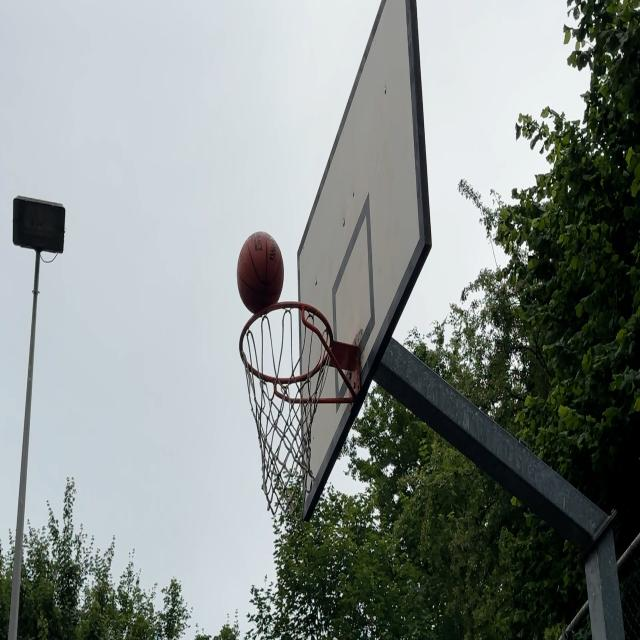rebound_hit: (237, 230, 284, 318)
